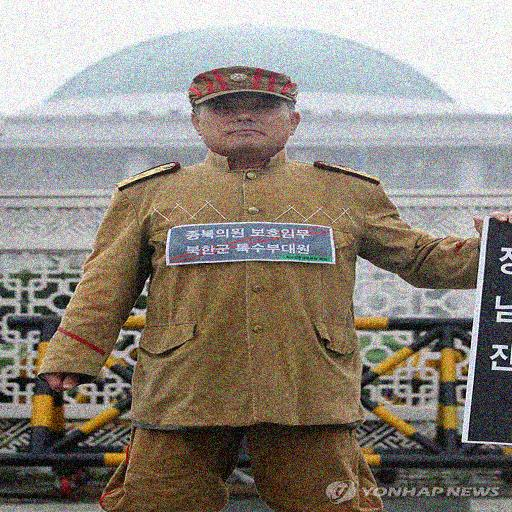north army: (64, 61, 447, 512)
